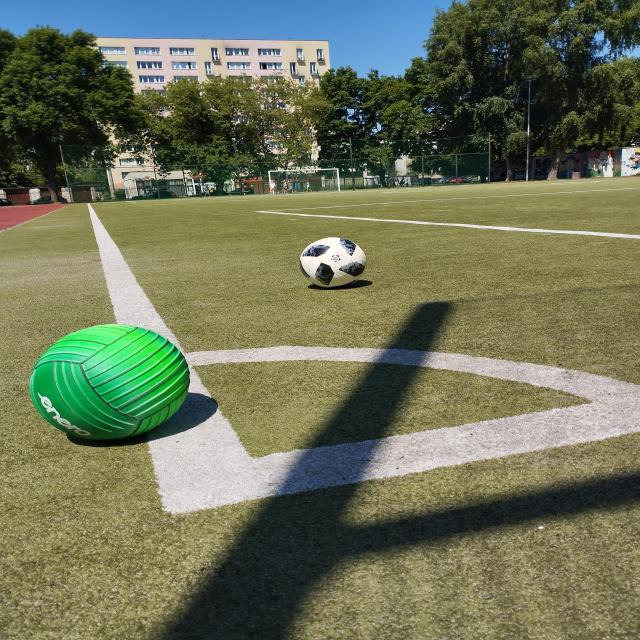nozna: (300, 237, 368, 288)
zielona: (30, 324, 191, 441)
